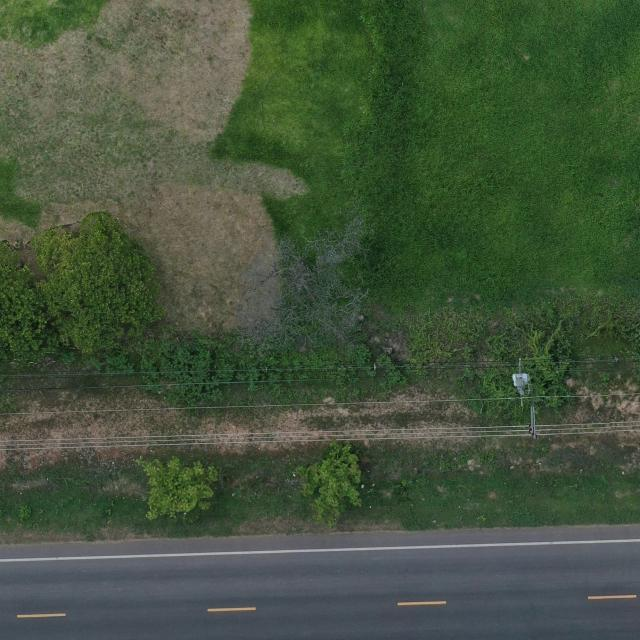Tree: (30, 210, 168, 358), (0, 236, 52, 368), (293, 439, 366, 531), (134, 456, 223, 521)
